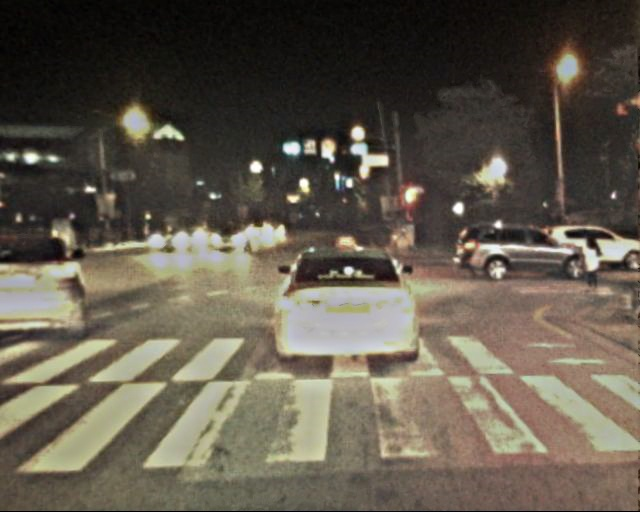person: (575, 231, 603, 299)
